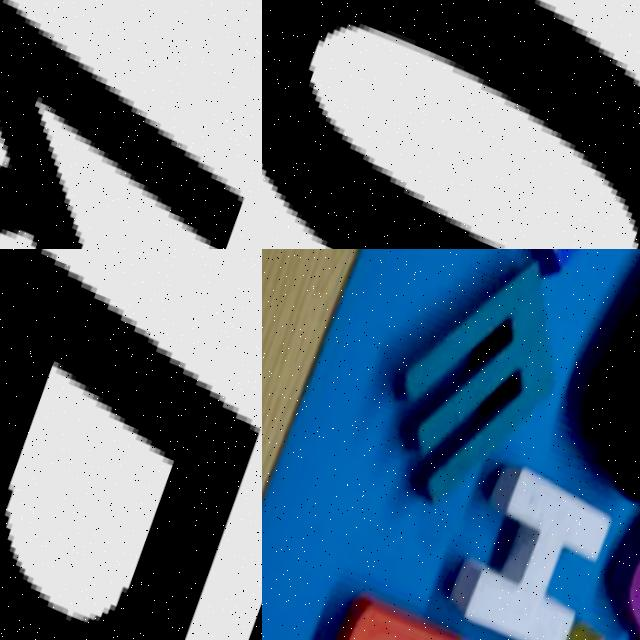0: (262, 0, 640, 249)
G: (572, 469, 640, 640)
H: (429, 443, 621, 640)
K: (0, 0, 262, 249)
M: (357, 249, 598, 529)
